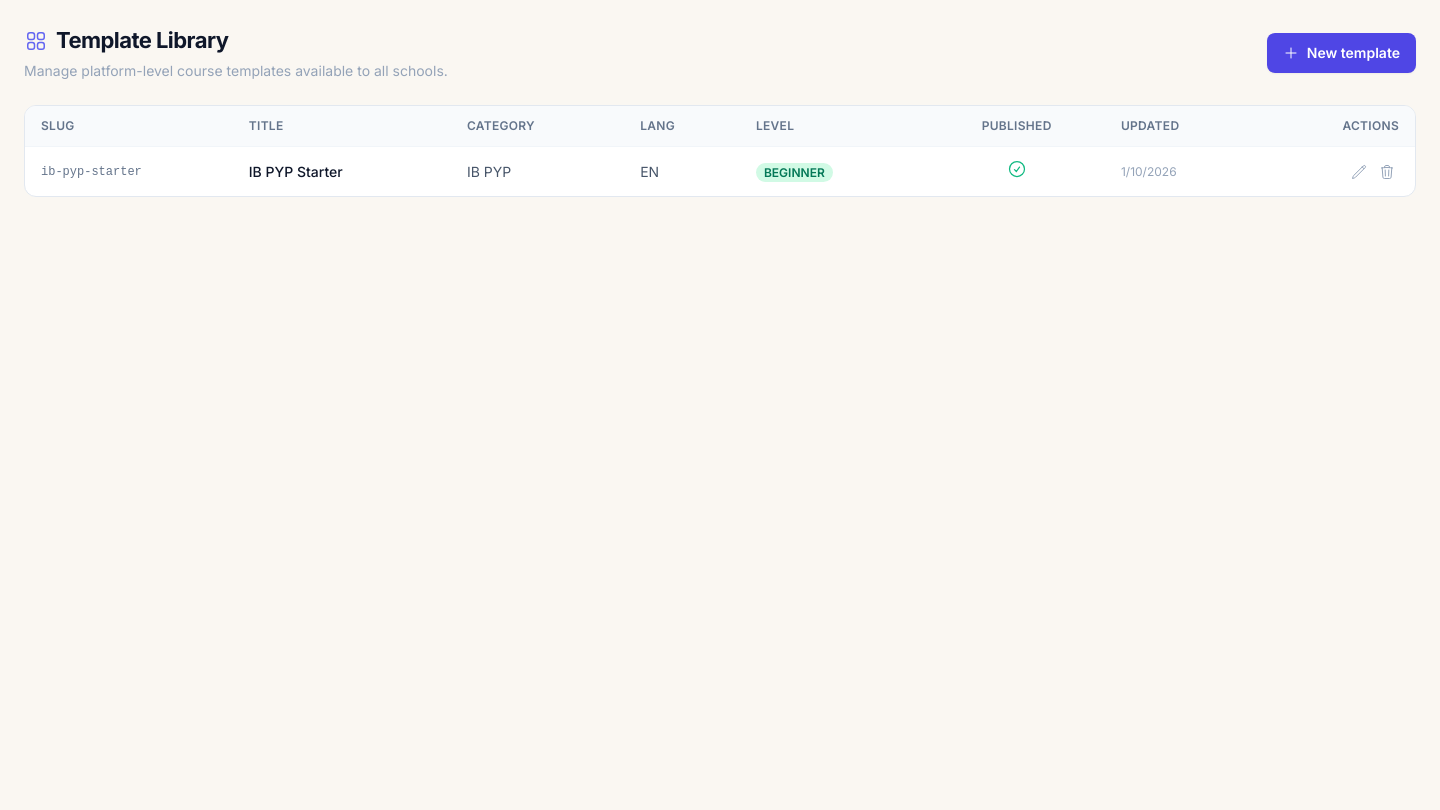
it: SuperAdminTemplateManagerPage › delete dialog defaults to soft unpublish radio
Check: the element with test id "templates-table" is shown, box [24,105,1416,197]
Click the button named "Delete": (1387, 172) [1375,160,1399,184]
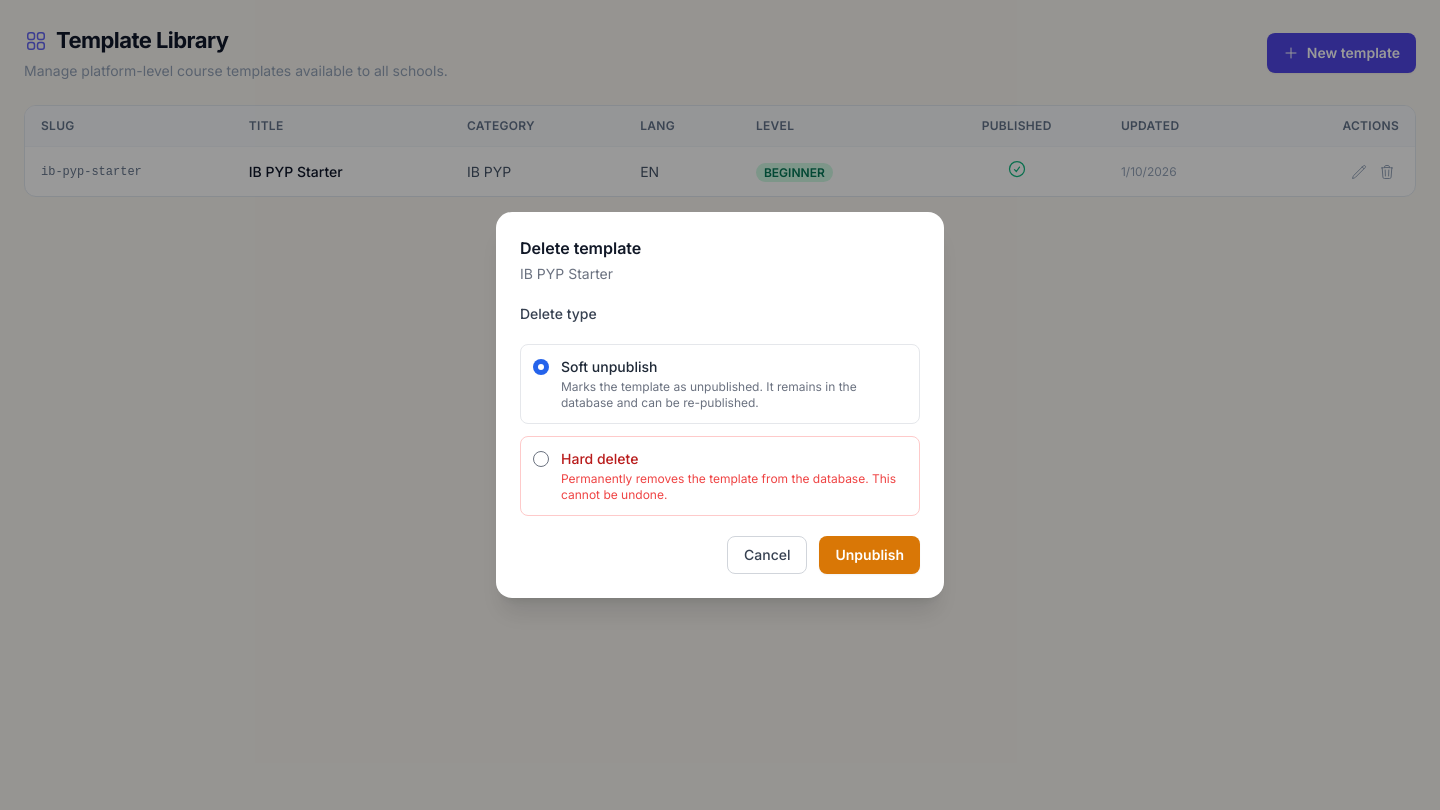
Check: the radio button with test id "radio-soft" is checked, box [533,359,549,375]
